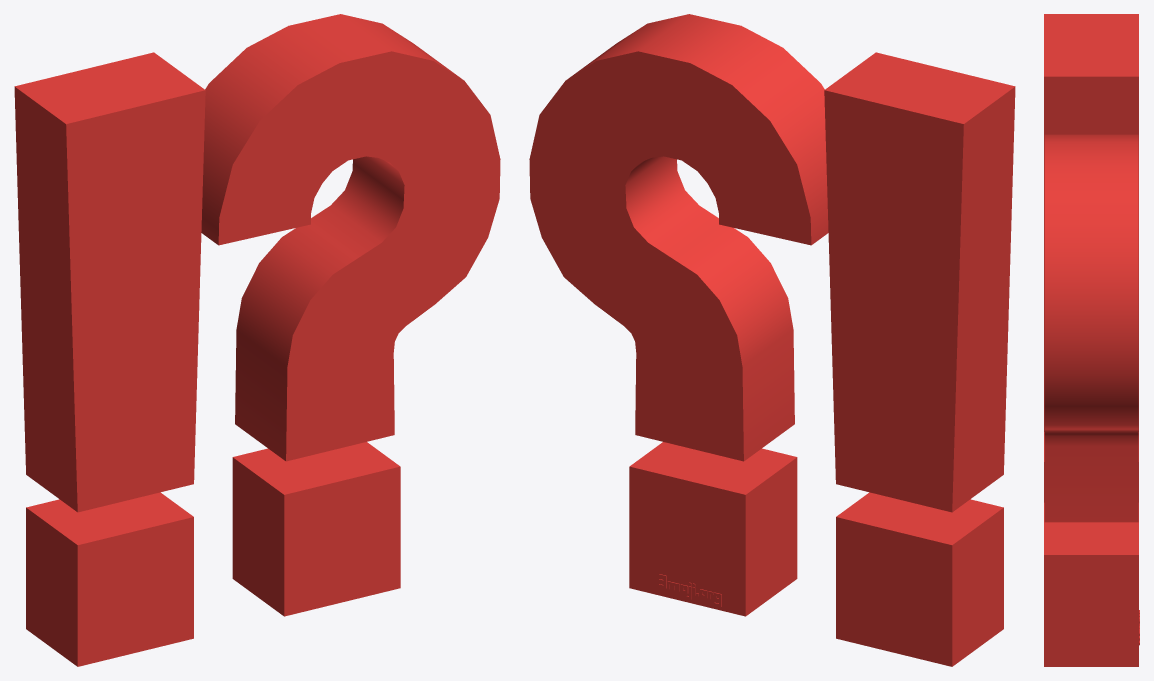
The model's file is exclamation_question_mark.fbx.
3 views of the same model, side by side, from view 1: azimuth 30°, elevation 25°; view 2: azimuth 150°, elevation 25°; view 3: azimuth 270°, elevation 25° (orthographic). The views are drawn at different scales.
Parts seen in each view (by area): view 1: Cube.6445; view 2: Cube.6445; view 3: Cube.6445.
Part boxes in pixels (x1,y1,x2,y2): Cube.6445: (14, 14, 500, 666); Cube.6445: (529, 14, 1015, 666); Cube.6445: (1044, 14, 1139, 666).
Bounding box in the file's own units: 183 × 219 × 37.95.
1 material, 1 textured.
